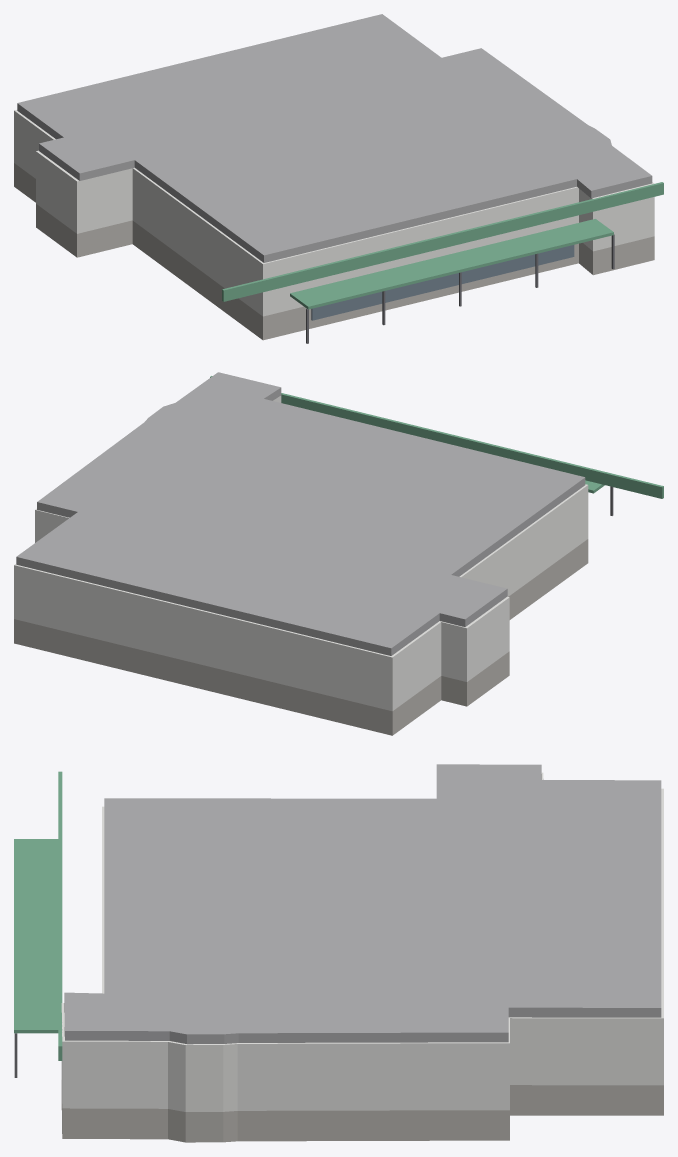
File: kandern-hieber.glb
The picture shows the model from 3 angles, top to bottom: view 1: azimuth 30°, elevation 25°; view 2: azimuth 150°, elevation 25°; view 3: azimuth 270°, elevation 25°; orthographic projection. The views are drawn at different scales.
Parts seen in each view (by area): view 1: building; view 2: building; view 3: building.
Part boxes in pixels (bbox=[...]): building: bbox=[14, 14, 663, 343]; building: bbox=[14, 372, 663, 735]; building: bbox=[14, 764, 663, 1142].
Bounding box in the file's own units: 48.38 × 8.8 × 48.38.
